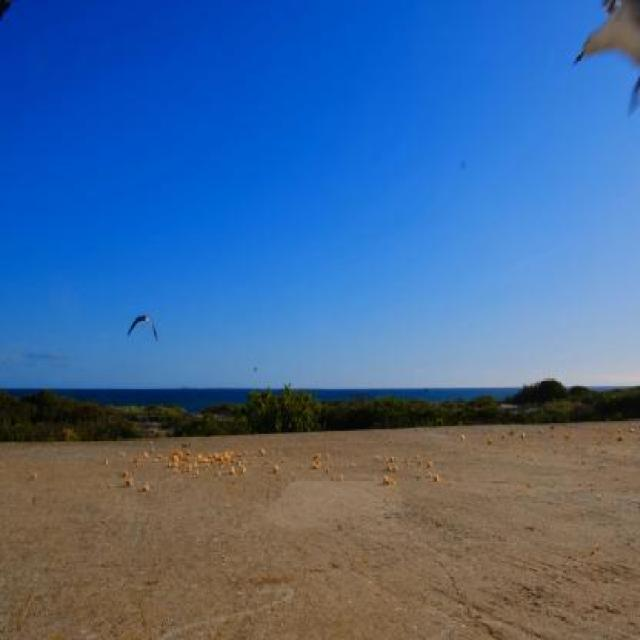bird: (561, 1, 640, 96), (122, 305, 163, 347)
